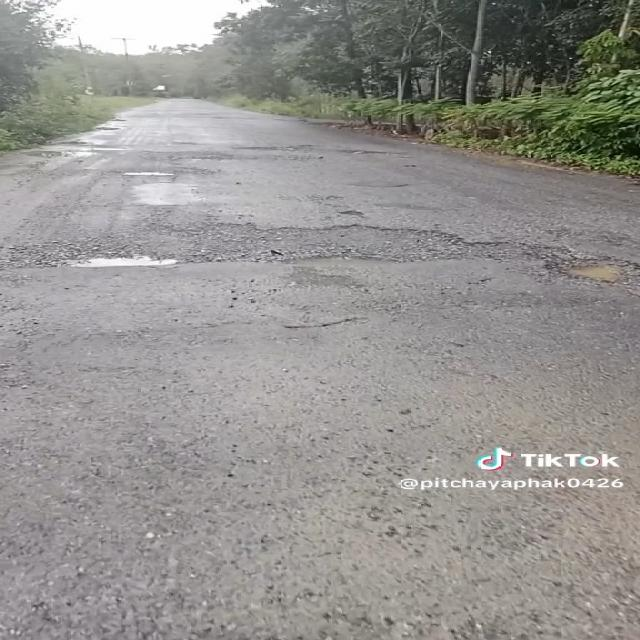Poth-hole: (44, 219, 270, 302)
